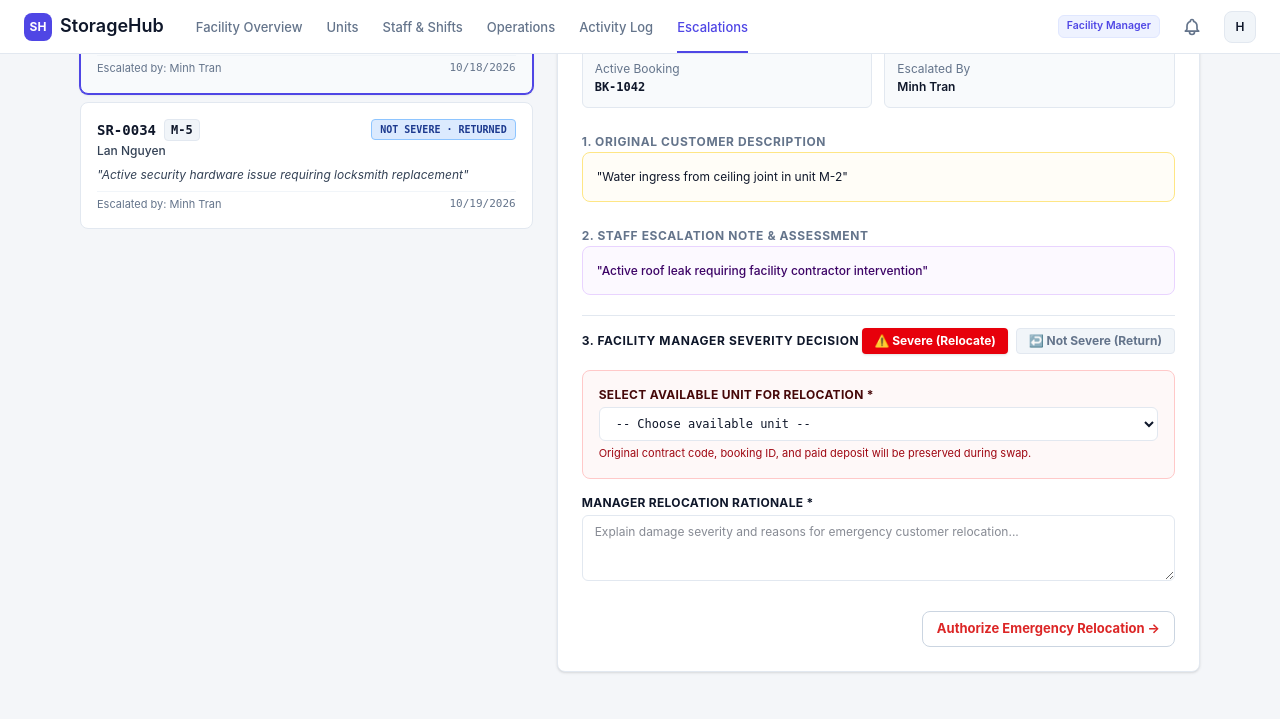
Test: Story 5.3: Facility Manager Severity Decision & Relocation › validates mandatory manager note before allowing decision
The image size is (1280, 719).
(page scrolled)
Click the button with test id "submit-decision-btn" at (1048, 628), box [922, 610, 1175, 646]
(page scrolled)
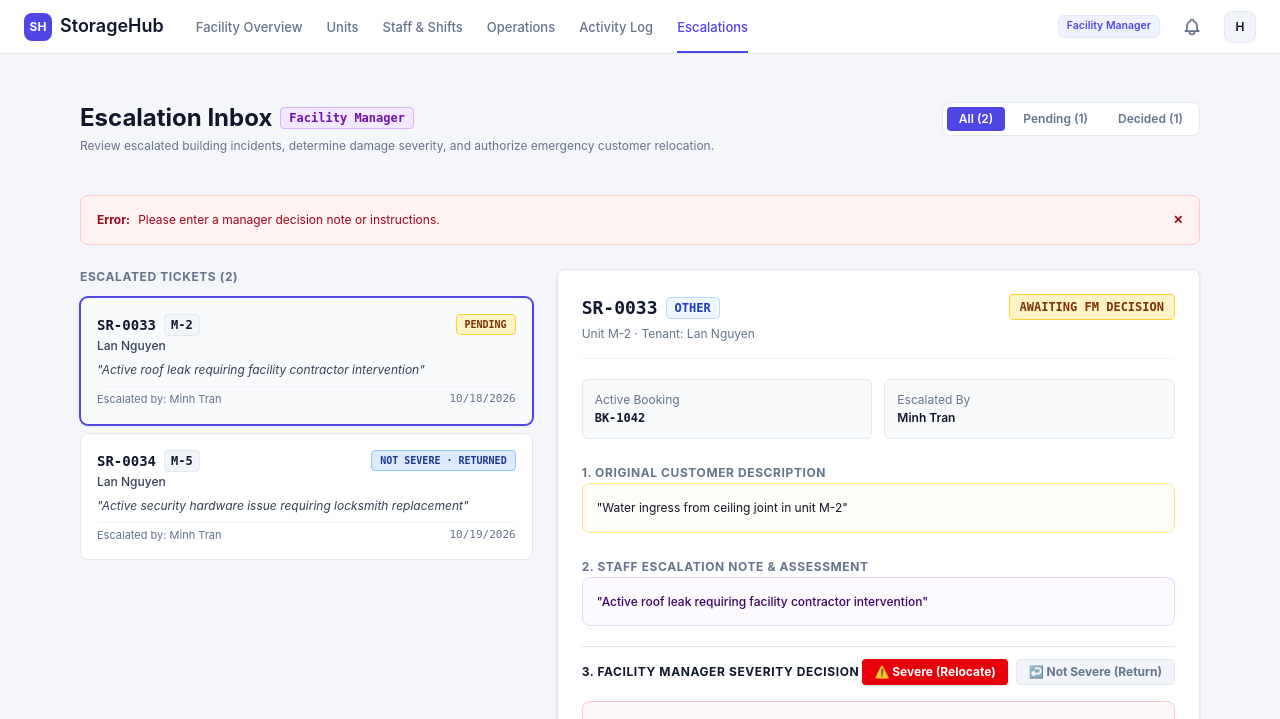
Expected: the element with test id "escalation-error-banner" is shown, [80, 195, 1200, 245]
Expected: the text "Please enter a manager decision note or instructions." is shown, [138, 212, 440, 228]
